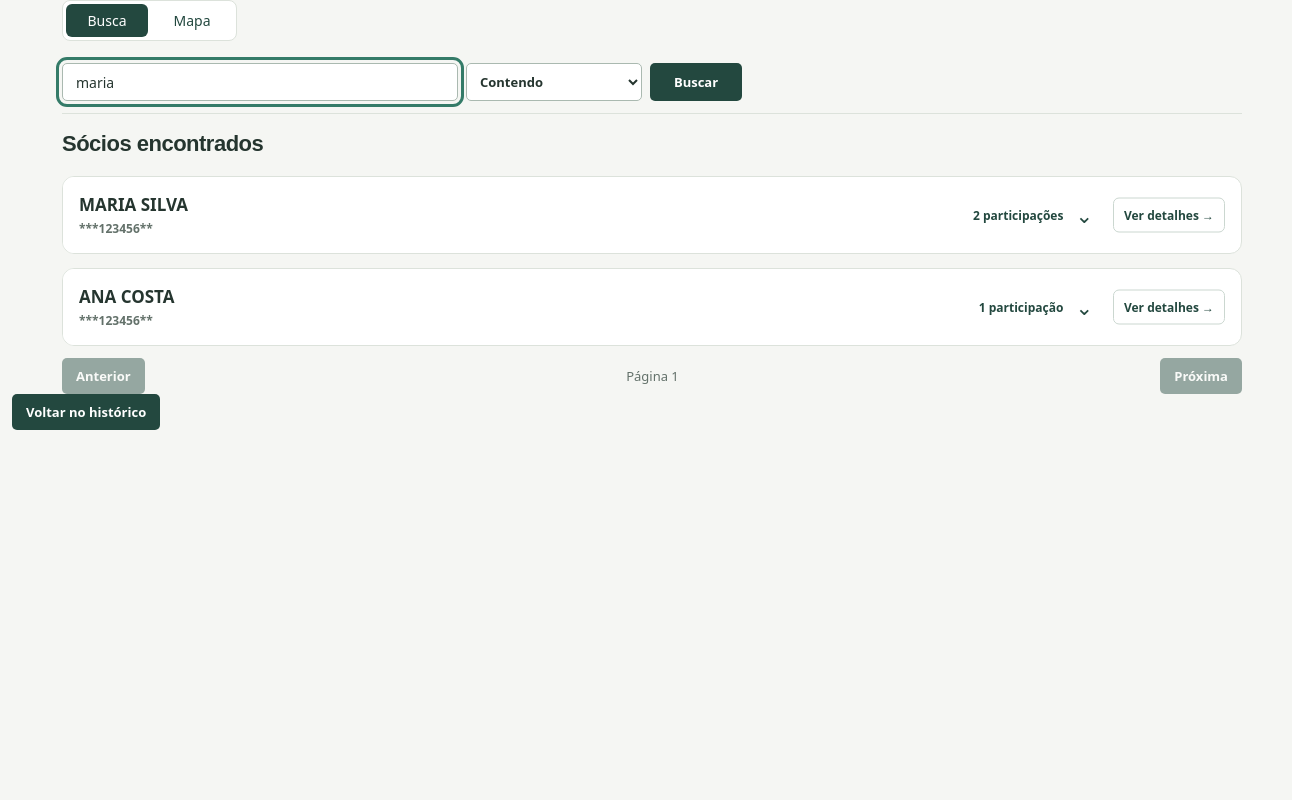
busca agrupada de sócios › renderiza todas as participações do grupo na ordem da API e preserva navegação e zeros
The image size is (1292, 800).
Check: the 1st text "***123456**" is shown, box 79,220 -> 153,237
Check: the text "2 participações" is shown, box 973,206 -> 1063,224
Click the button "MARIA SILVA ***123456** 2 participações ⌄".
click(134, 204)  # box 63,177 -> 1109,253
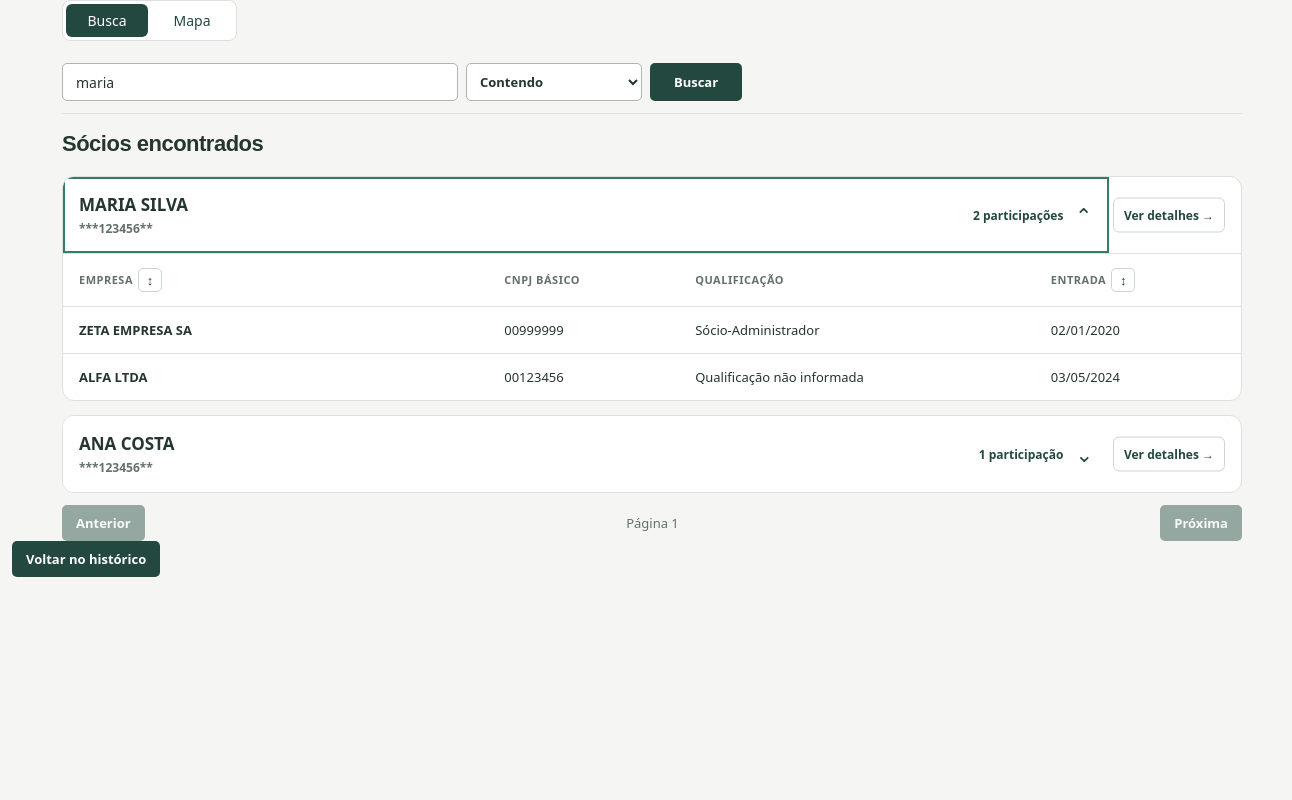
Check: the text "00123456" is shown, box 488,354 -> 679,400
